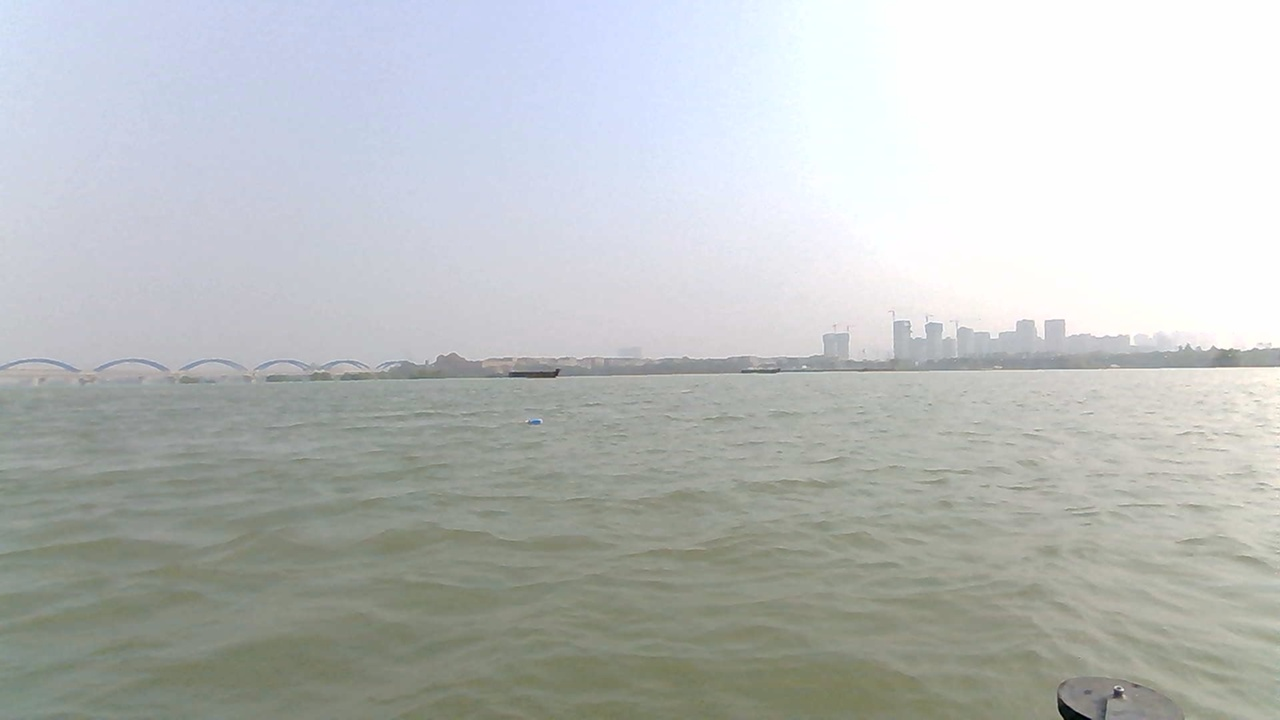bottle: (522, 415, 551, 429)
